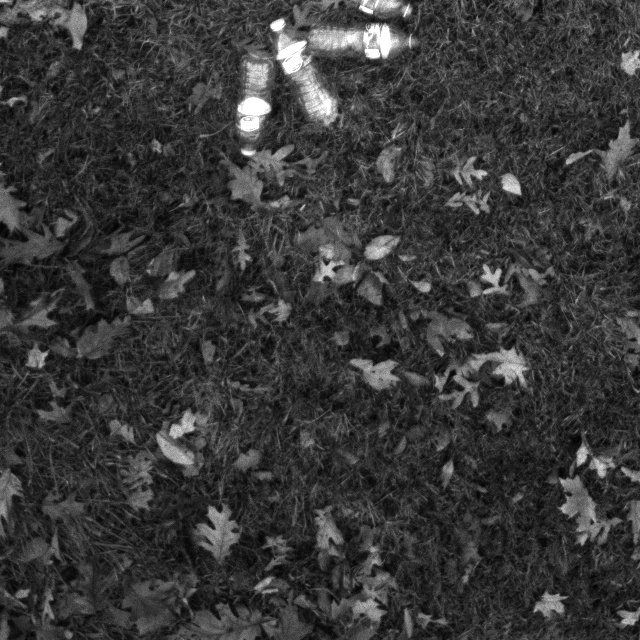bottle: (262, 12, 345, 141), (300, 3, 429, 79), (226, 41, 285, 176)
